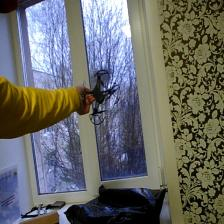drone: (78, 67, 124, 128)
